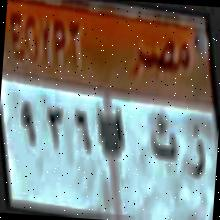3: (44, 100, 66, 156)
6: (71, 102, 96, 162)
9: (16, 96, 40, 158)
alif: (112, 110, 127, 152)
thaa: (147, 111, 180, 170)
zay: (184, 118, 212, 186)
